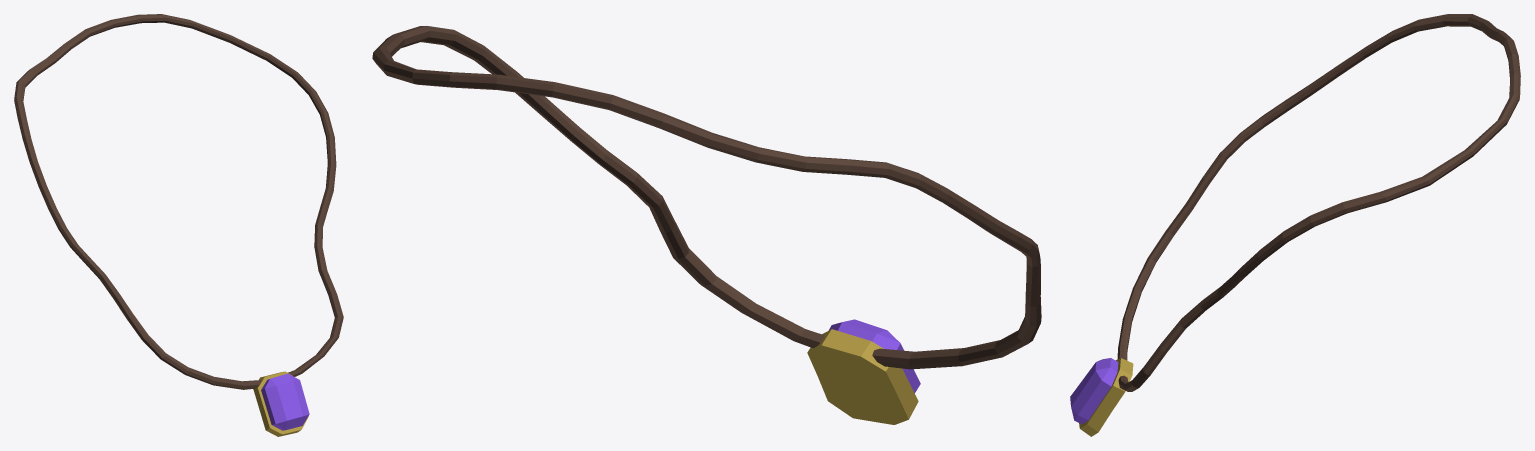
Rendered from necklace1.glb.
3 views of the same model, side by side, from view 1: azimuth 30°, elevation 25°; view 2: azimuth 150°, elevation 25°; view 3: azimuth 270°, elevation 25° (orthographic). The views are drawn at different scales.
Visible parts, largest first — view 1: Necklace1; view 2: Necklace1; view 3: Necklace1.
Boxes of the visible parts, x1,y1,x2,y2 form: Necklace1: [14, 14, 343, 436]; Necklace1: [372, 26, 1041, 424]; Necklace1: [1070, 14, 1520, 436].
Size of the model in its own units: 0.8734 by 0.8767 by 0.9629.
